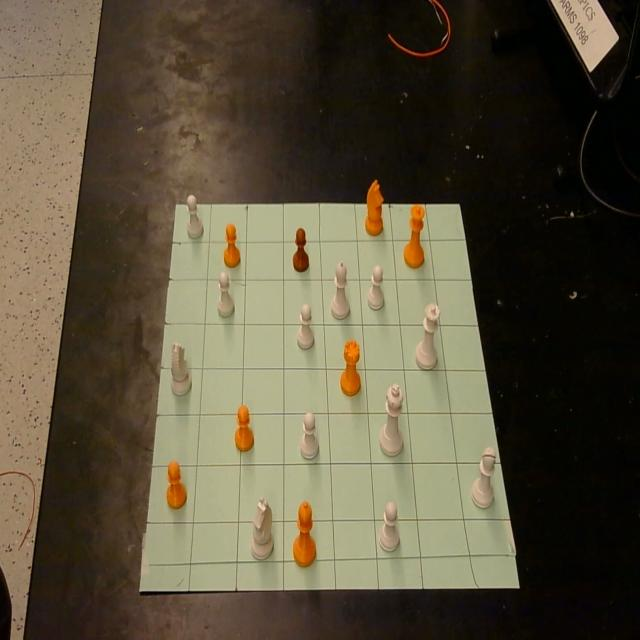orange_bishop: (293, 501, 316, 566)
orange_knight: (365, 179, 384, 236)
orange_pawn: (166, 460, 187, 509), (235, 404, 254, 451), (223, 222, 240, 268), (293, 228, 309, 272)
orange_queen: (404, 203, 425, 268)
orange_rook: (341, 338, 361, 396)
white_bishop: (332, 261, 351, 319)
white_king: (379, 382, 404, 456)
white_knight: (250, 497, 274, 560), (170, 342, 191, 396)
white_pawn: (470, 447, 496, 508), (379, 501, 400, 552), (299, 411, 319, 460), (217, 270, 234, 317), (367, 264, 384, 310), (297, 304, 314, 349), (187, 195, 204, 240)
white_queen: (414, 302, 440, 370)
